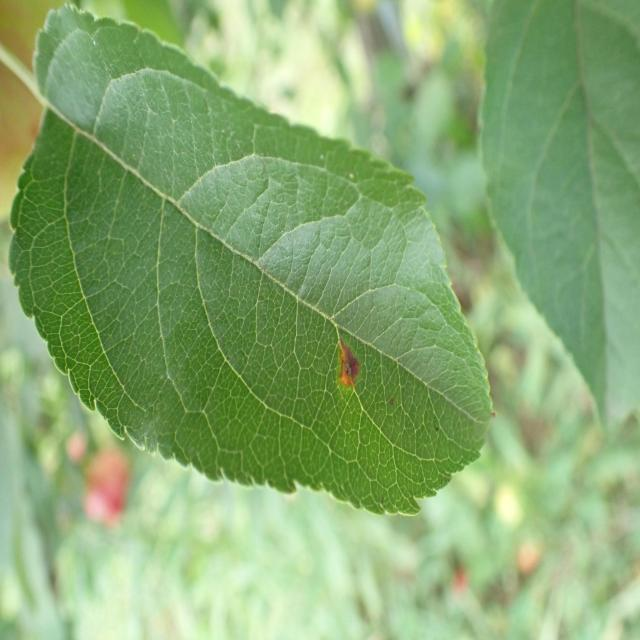Rust: (310, 328, 367, 399)
